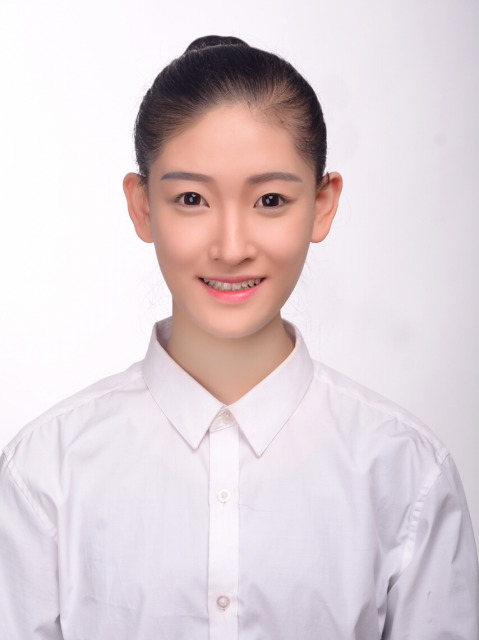unmask: (149, 119, 320, 328)
